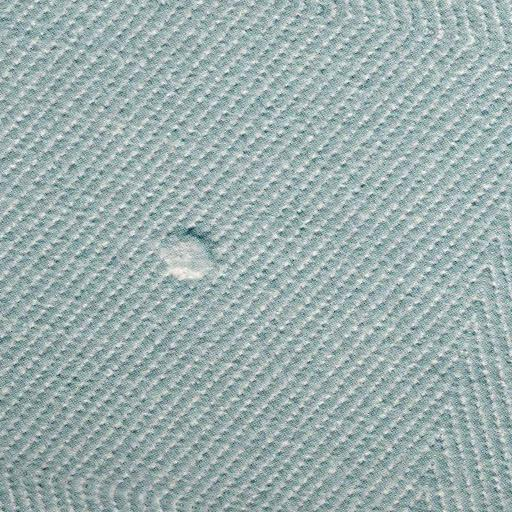knot: (146, 217, 227, 292)
